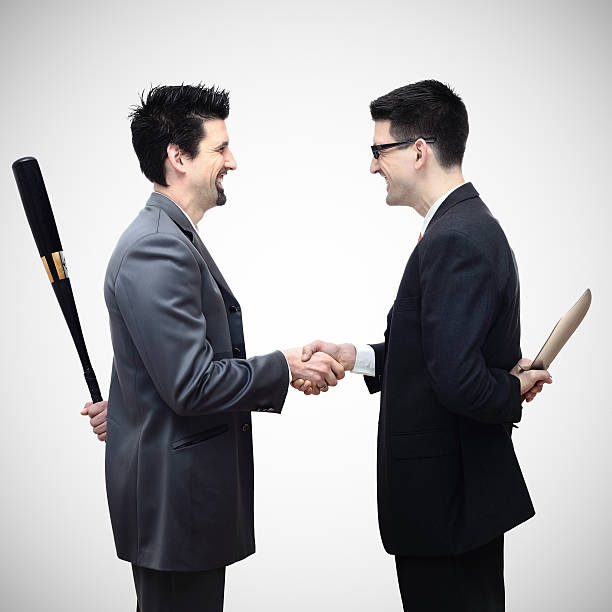bita: (15, 160, 104, 413)
